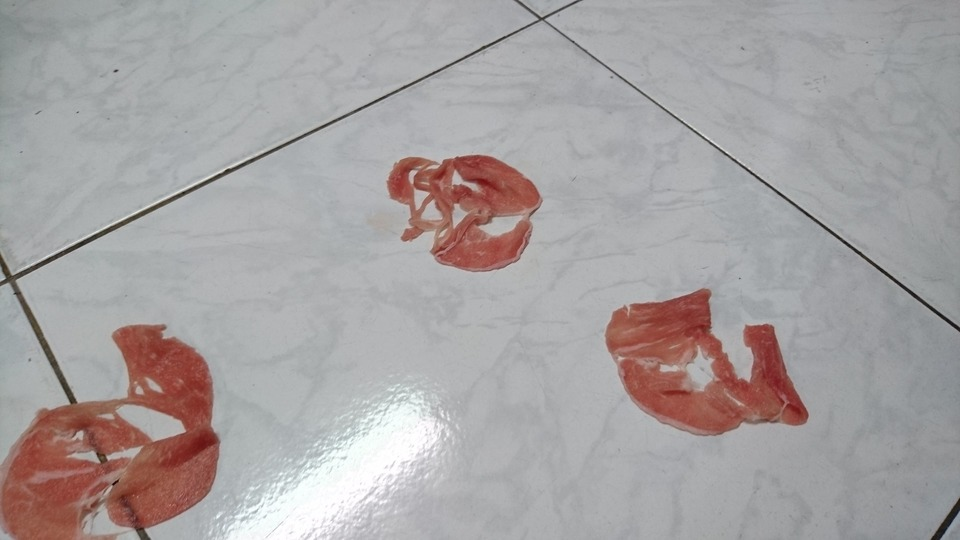restructured meat: (1, 311, 219, 540), (602, 274, 815, 444), (385, 151, 540, 270)
